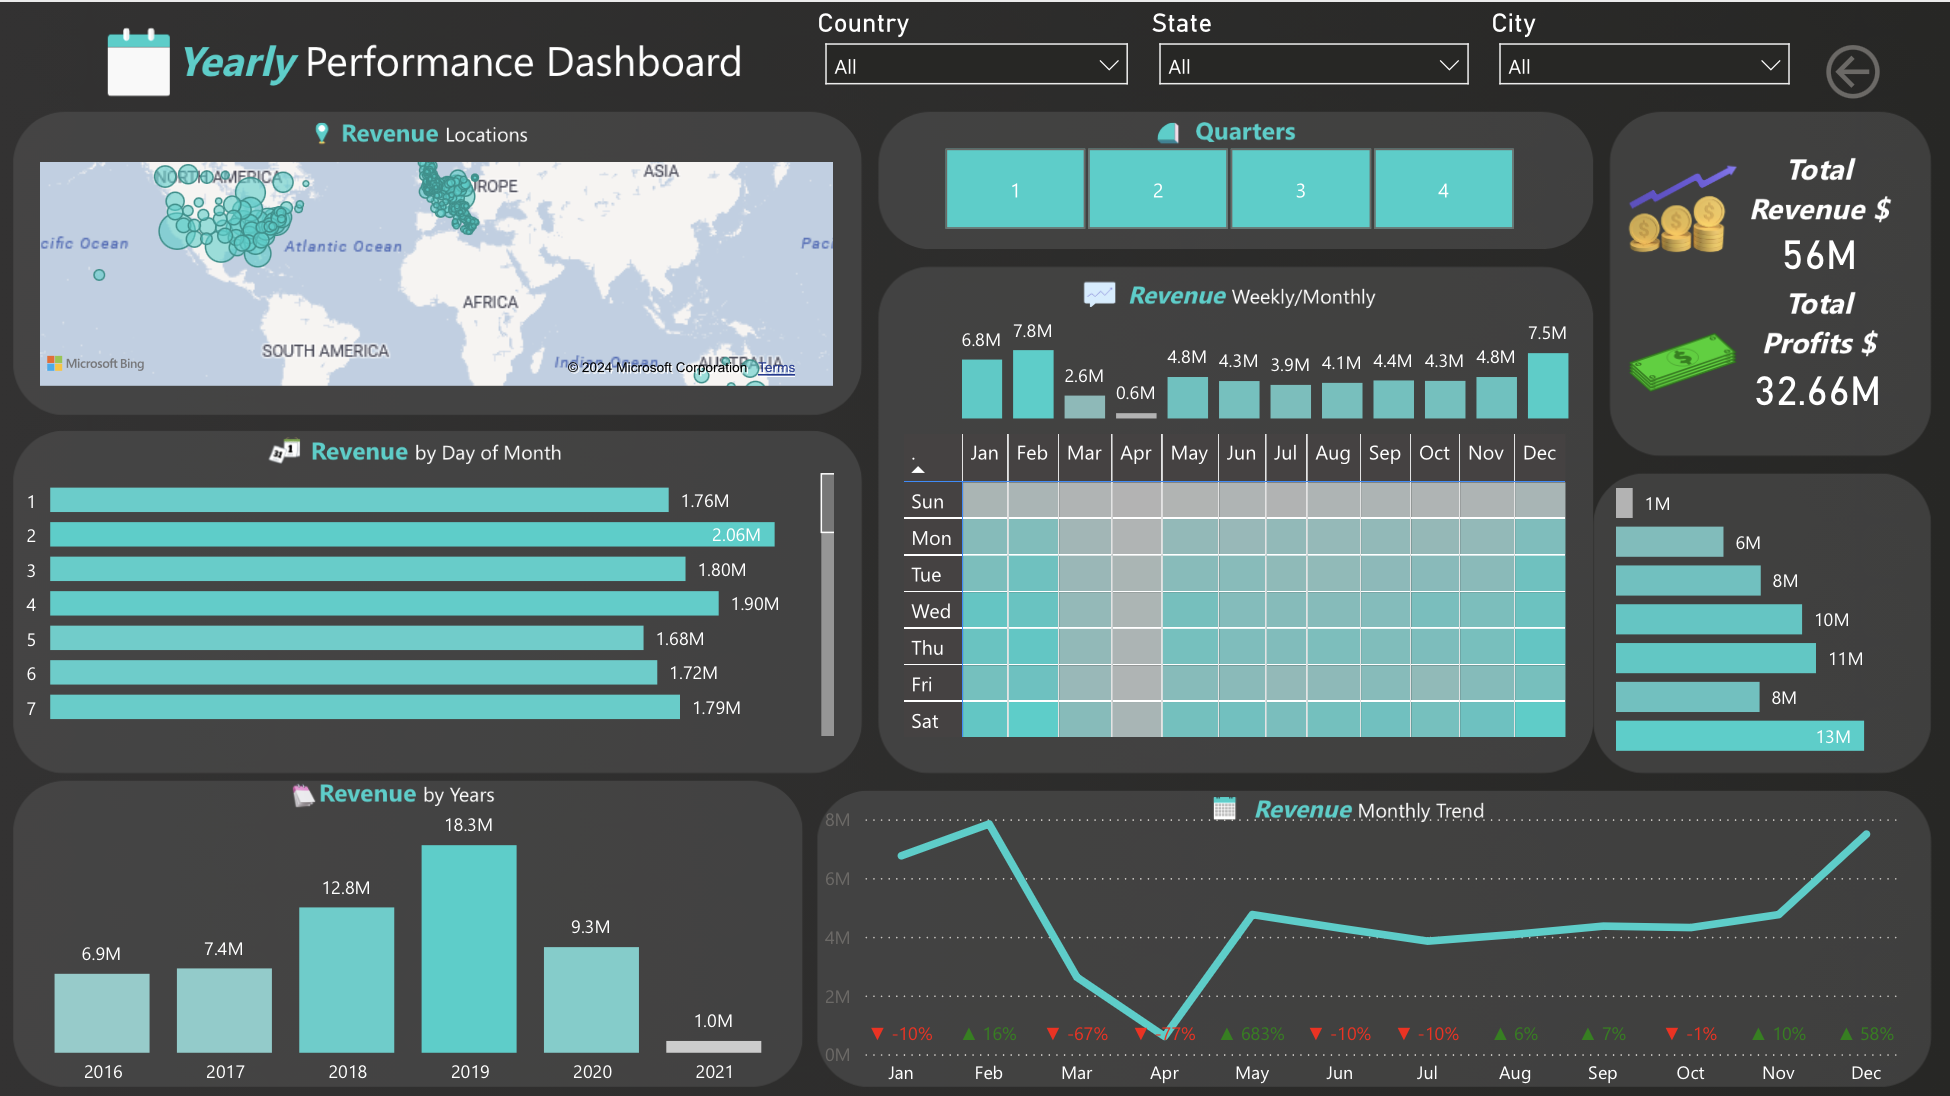

What the dashboard file says about the page in this screenshot:
{"tool":"powerbi","page":{"name":"Yearly Performance","canvas":[1280,720],"ordinal":1},"visuals":[{"type":"card","fields":{"Values":["Calculations.Total Revenue"]},"box":[1131.4,122.9,124.3,81.4],"z":0},{"type":"columnChart","title":"Revenue by Years","fields":{"Category":["DateTable.Year"],"Y":["Calculations.Total Revenue"]},"box":[0,518.3,539.5,201],"z":1000},{"type":"lineChart","title":"Revenue Monthly Trend","fields":{"Category":["DateTable.Month"],"Y":["Calculations.Blank Measure (Month)","Calculations.Total Revenue"]},"box":[536.3,522.3,716.8,198],"z":2000},{"type":"pivotTable","fields":{"Rows":["DateTable.Weekday"],"Columns":["DateTable.Month"],"Values":["Calculations.Total Revenue"]},"box":[588.9,278.7,459.2,224.3],"z":3000},{"type":"clusteredColumnChart","fields":{"Y":["Calculations.Total Revenue"],"Category":["DateTable.Month"]},"box":[627.4,196.3,408.4,82.4],"z":4000},{"type":"clusteredBarChart","fields":{"Y":["Calculations.Total Revenue"],"Category":["DateTable.Weekday"]},"box":[1055.1,305,203.3,191],"z":5000},{"type":"map","title":"Revenue Locations","fields":{"Size":["Calculations.Total Revenue"],"Category":["dataspark customers.Location"]},"box":[22.3,99.6,530.6,157.2],"z":6000},{"type":"card","fields":{"Values":["Calculations.Total Profit"]},"box":[1126.9,215.6,133.8,75.8],"z":7000},{"type":"barChart","title":"Revenue by Day of Month","fields":{"Category":["DateTable.DayOfMonth"],"Y":["Calculations.Total Revenue"]},"box":[5.2,296.1,547.6,190],"z":8000},{"type":"slicer","title":"Quarter","fields":{"Values":["DateTable.Quarter"]},"box":[595.9,89.4,422.4,66.6],"z":9000},{"type":"slicer","title":"City","fields":{"Values":["dataspark customers.City"]},"box":[974,6.2,210.6,58.7],"z":10000},{"type":"slicer","title":"State","fields":{"Values":["dataspark customers.State"]},"box":[751.3,6.2,222.8,58.7],"z":11000},{"type":"slicer","title":"Country","fields":{"Values":["dataspark customers.Country"]},"box":[532.5,6.2,218.7,58.7],"z":12000},{"type":"textbox","title":"Revenue by Month/Weekday","box":[735.7,175.7,271.4,40],"z":13000},{"type":"textbox","box":[110.1,14.4,386.5,65.5],"z":14000},{"type":"textbox","title":"Revenue by Month/Weekday","box":[761.4,512.9,274.3,40],"z":15000},{"type":"textbox","title":"Revenue by Month/Weekday","box":[132.9,502.9,271.4,40],"z":16000},{"type":"textbox","title":"Revenue by Month/Weekday","box":[150.7,278.7,273.4,40.3],"z":17000},{"type":"textbox","title":"Revenue by Month/Weekday","box":[149.4,69.4,273.8,41.9],"z":18000},{"type":"textbox","title":"Revenue by Month/Weekday","box":[1130,90,127.1,74.3],"z":19000},{"type":"textbox","title":"Revenue by Month/Weekday","box":[1144.7,178.4,98.1,78.8],"z":20000},{"type":"textbox","box":[711.6,68.4,212.1,40.3],"z":21000},{"type":"actionButton","box":[1193.8,12,45.9,67.9],"z":22000}]}

Visuals, with their boxes in screenshot pixels (x1, y1, x2, y2), scaled from the page's 1280x720 canvas onto the 1950x1096 screenshot:
card - Calculations.Total Revenue: 1724:187:1913:311
"Revenue by Years" columnChart: 0:789:822:1095
"Revenue Monthly Trend" lineChart: 817:795:1909:1095
pivotTable - DateTable.Weekday x DateTable.Month: 897:424:1597:766
clusteredColumnChart - Calculations.Total Revenue x DateTable.Month: 956:299:1578:424
clusteredBarChart - Calculations.Total Revenue x DateTable.Weekday: 1607:464:1917:755
"Revenue Locations" map: 34:152:842:391
card - Calculations.Total Profit: 1717:328:1921:444
"Revenue by Day of Month" barChart: 8:451:842:740
"Quarter" slicer: 908:136:1551:237
"City" slicer: 1484:9:1805:99
"State" slicer: 1145:9:1484:99
"Country" slicer: 811:9:1144:99
"Revenue by Month/Weekday" textbox: 1121:267:1534:328
textbox: 168:22:757:122
"Revenue by Month/Weekday" textbox: 1160:781:1578:842
"Revenue by Month/Weekday" textbox: 202:766:616:826
"Revenue by Month/Weekday" textbox: 230:424:646:486
"Revenue by Month/Weekday" textbox: 228:106:645:169
"Revenue by Month/Weekday" textbox: 1721:137:1915:250
"Revenue by Month/Weekday" textbox: 1744:272:1893:392
textbox: 1084:104:1407:165
actionButton: 1819:18:1889:122
